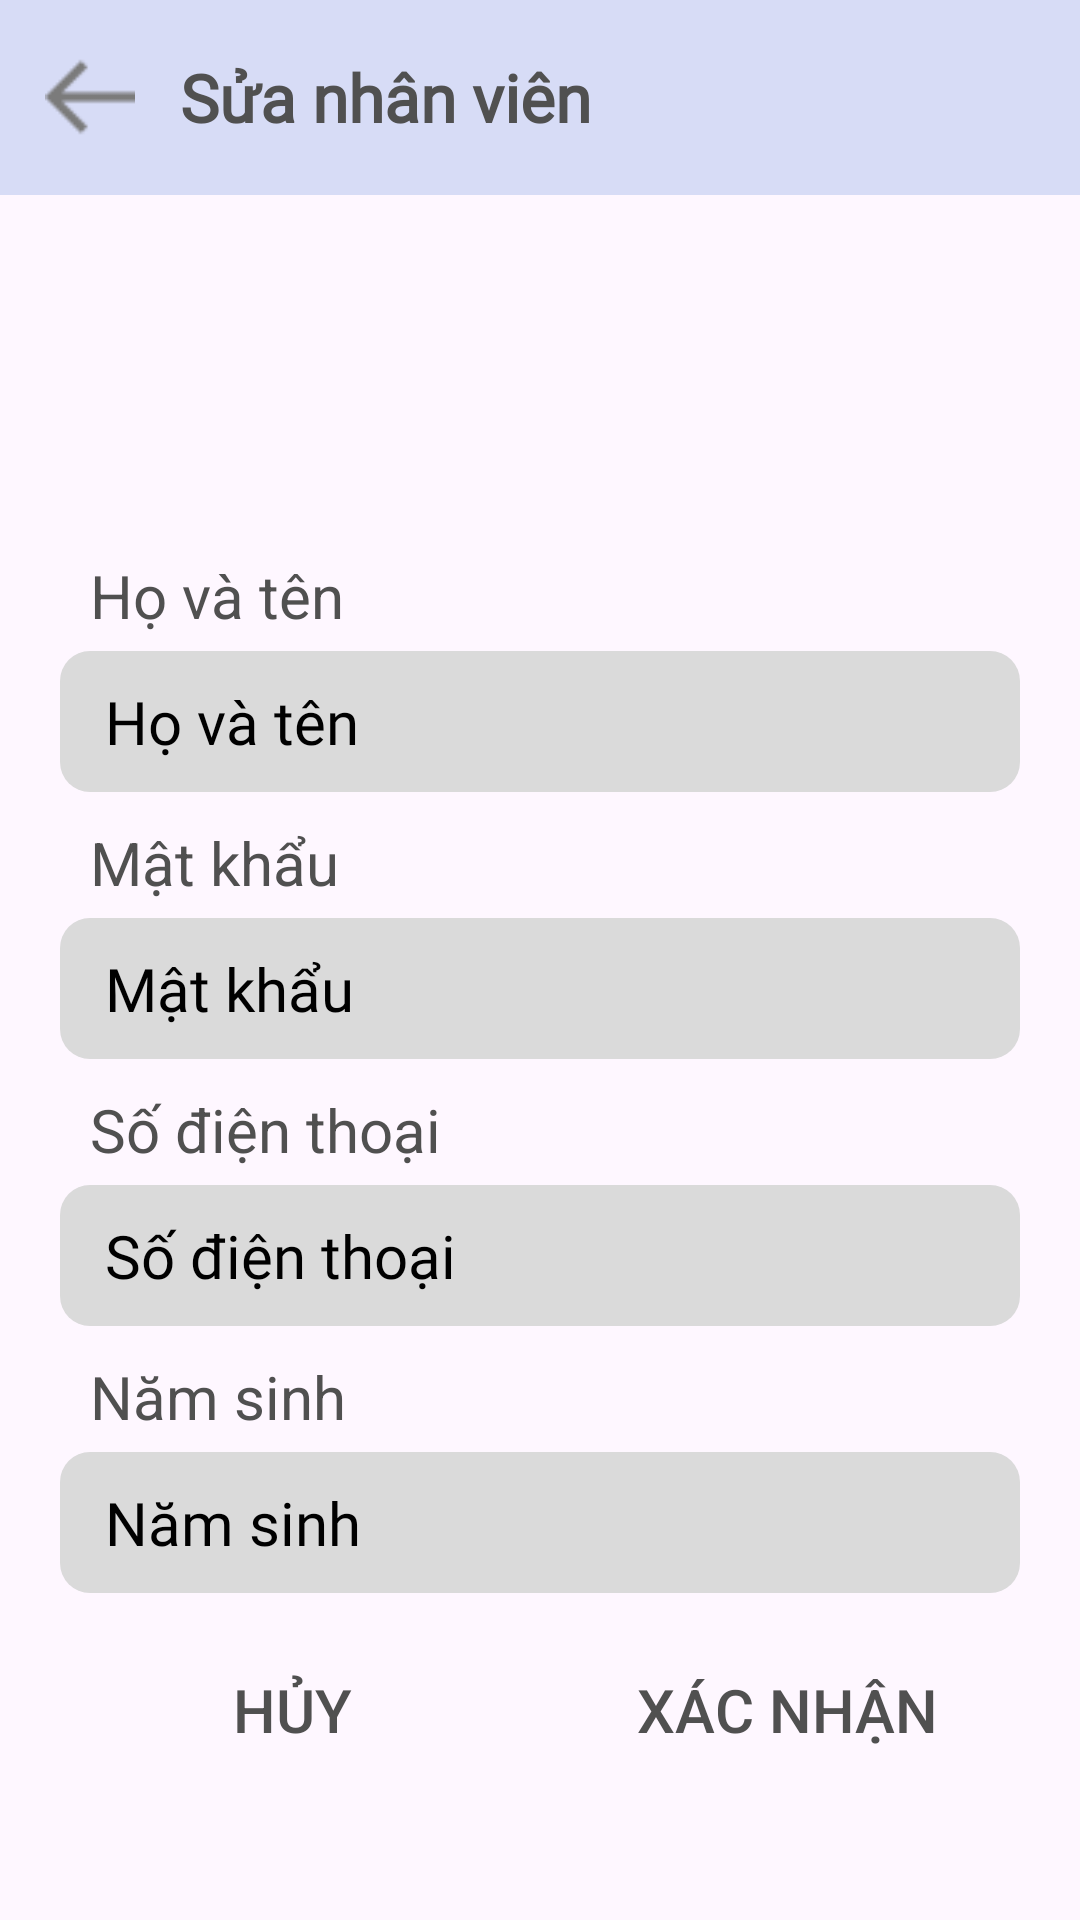

Icons on this 1080 x 1920 Android screen, each with the point to tap as [x,y]:
leftarrow: [90,97]
